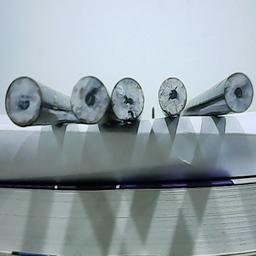pen: (4, 75, 40, 126), (71, 74, 107, 123), (111, 74, 145, 122), (157, 72, 188, 115), (222, 70, 254, 111)
